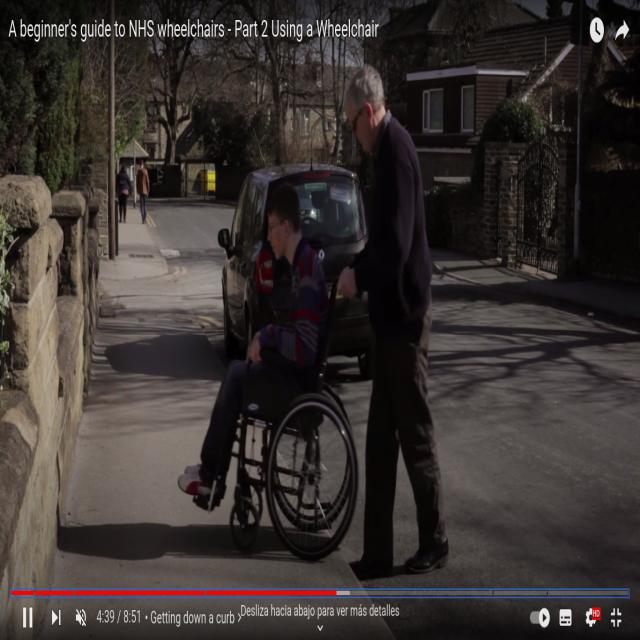wheelchairs: (188, 263, 364, 565)
